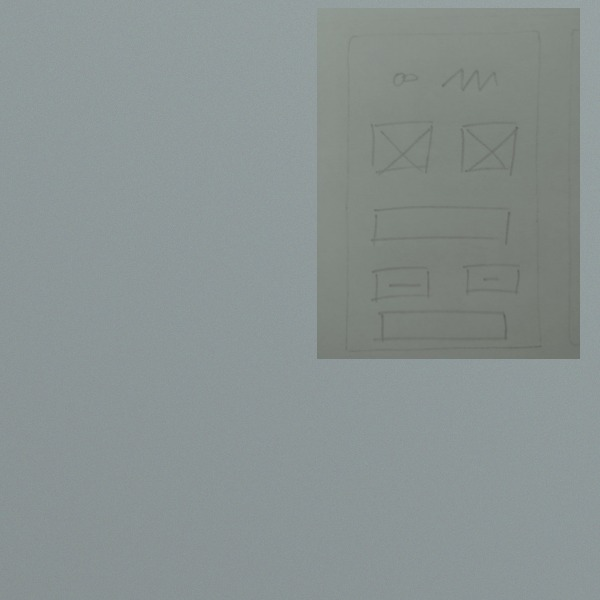button: (458, 258, 524, 301), (368, 263, 435, 303)
image: (364, 118, 442, 177), (457, 118, 522, 181)
switch: (384, 64, 430, 93)
text: (439, 64, 506, 98)
text_input: (365, 203, 517, 248), (372, 307, 514, 345)
